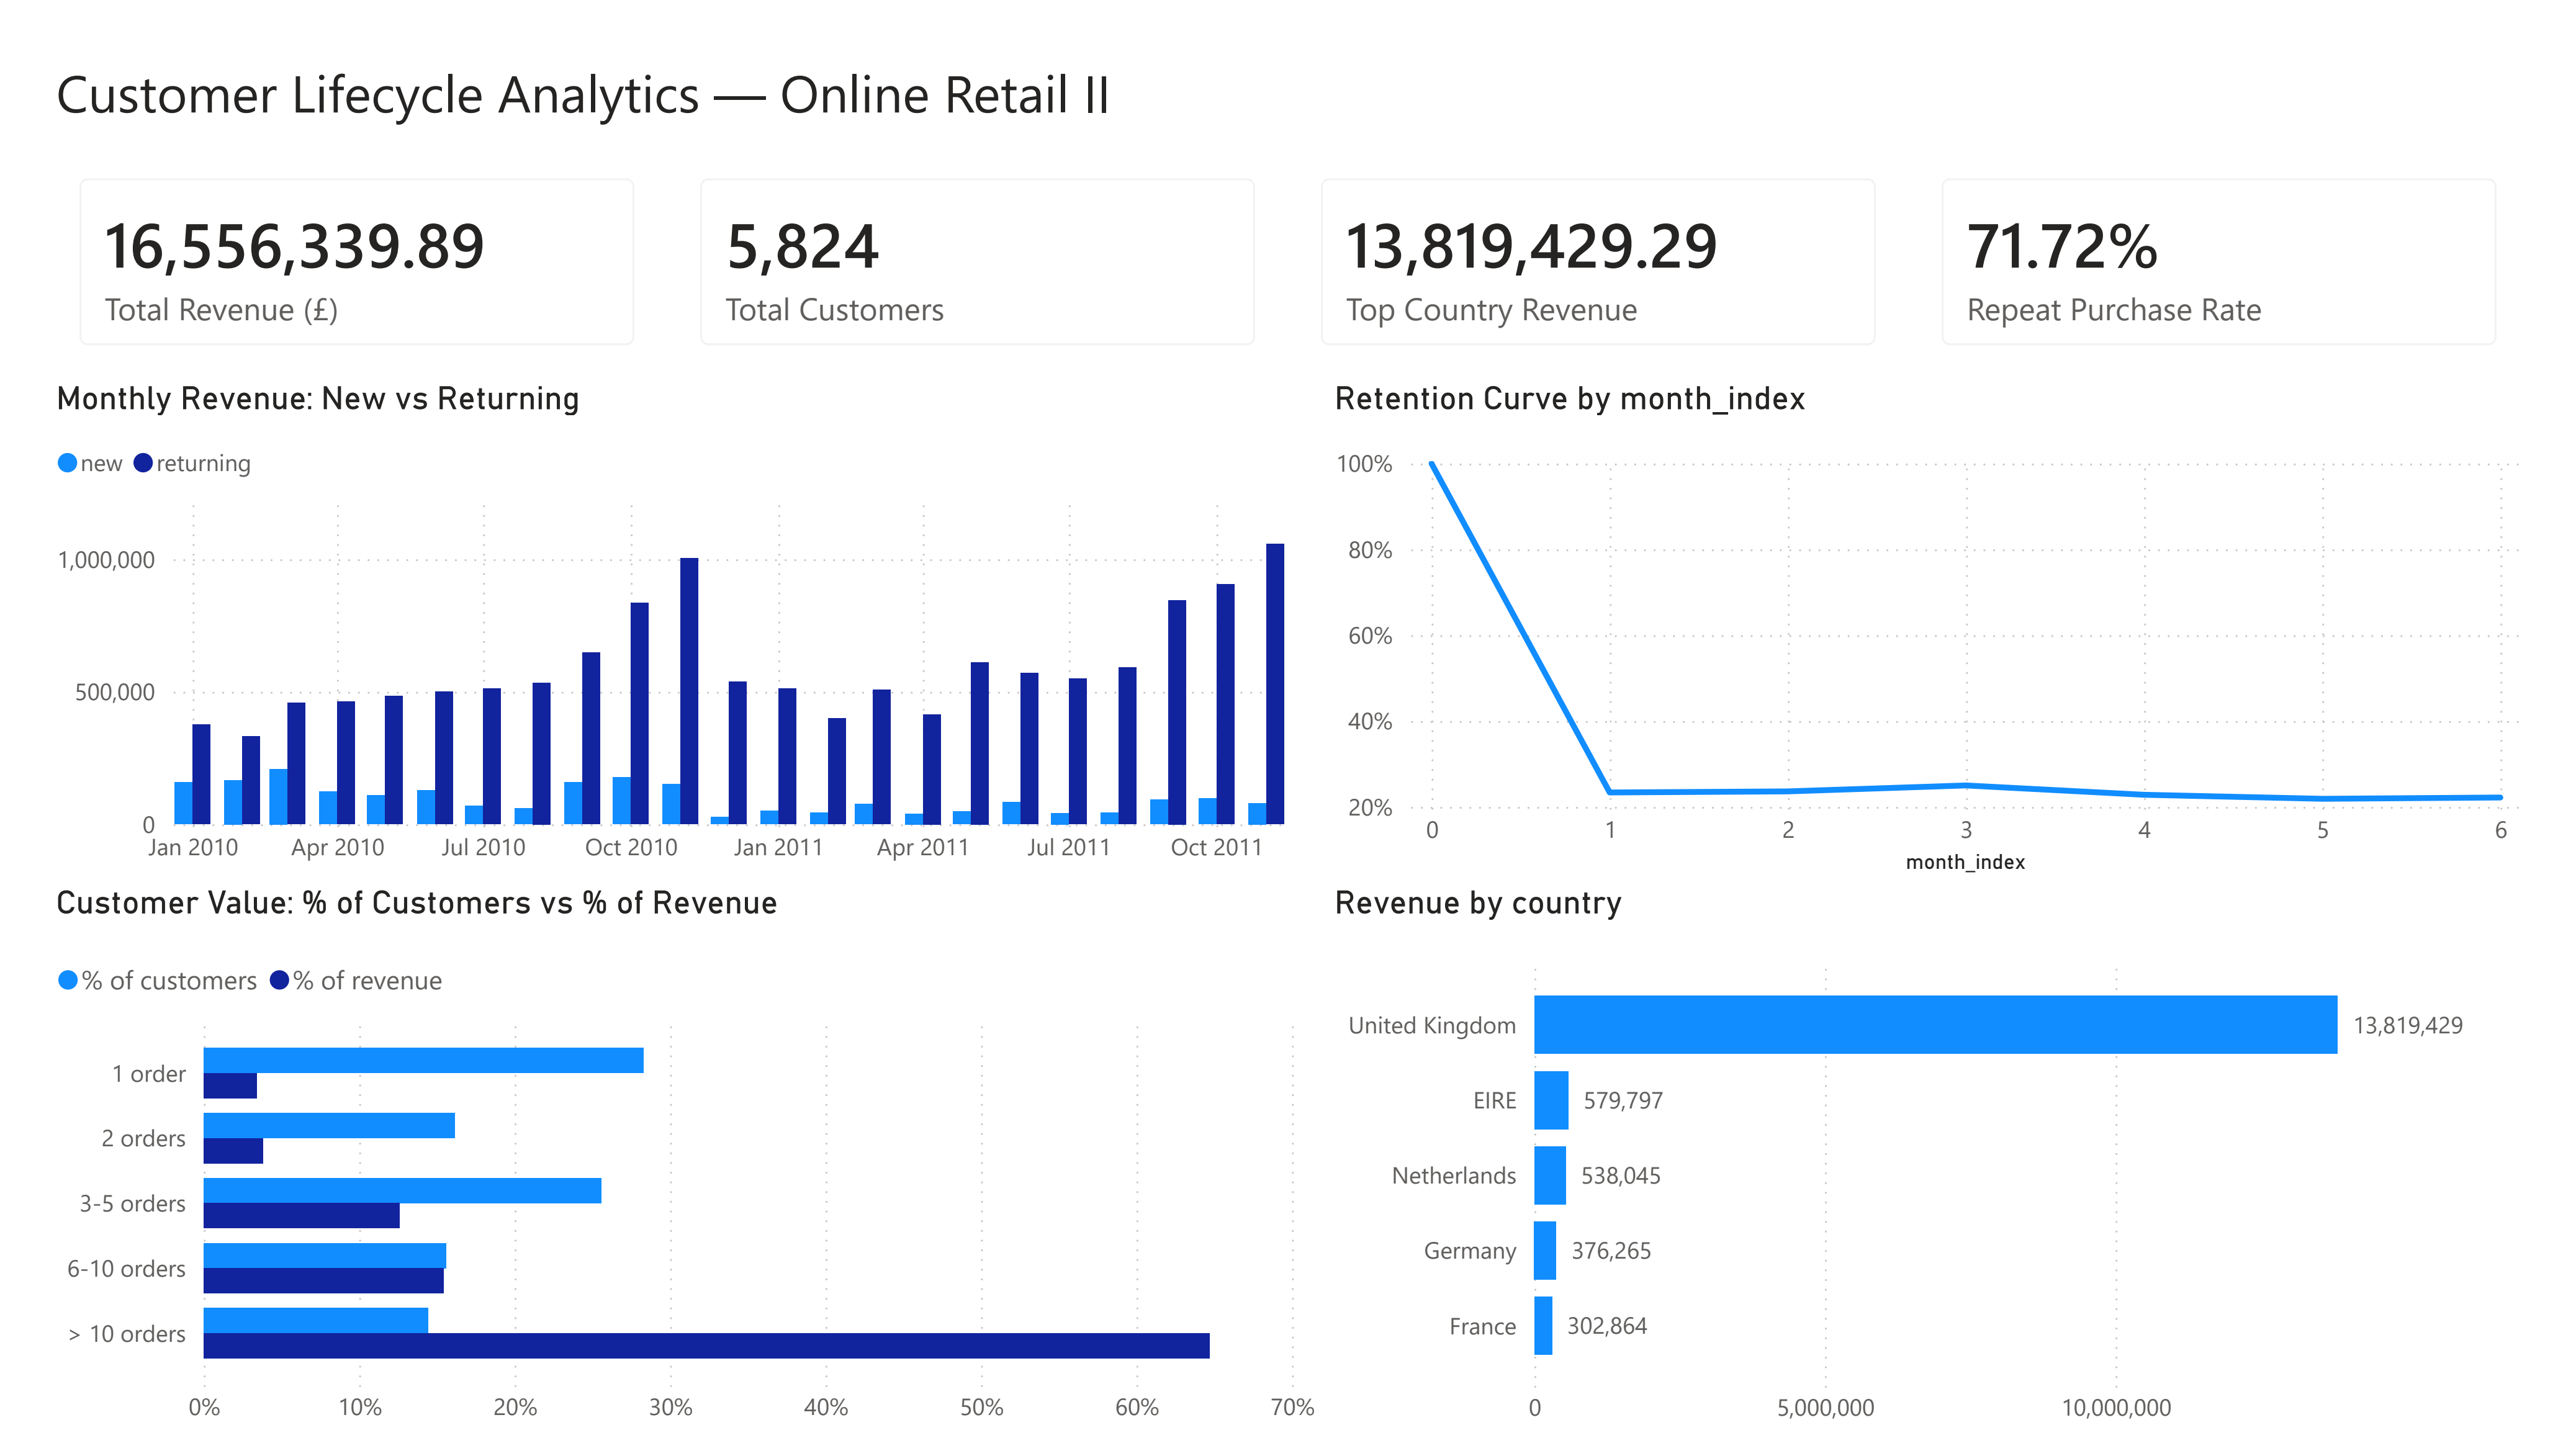

The page's visual inventory and layout, read from the dashboard file:
{"tool":"powerbi","page":{"name":"Trang 1","canvas":[1280,720],"ordinal":0},"visuals":[{"type":"cardVisual","fields":{"Data":["1Measures.Total Revenue"]},"box":[0,51.4,320,120],"z":0},{"type":"cardVisual","fields":{"Data":["1Measures.Total Customers"]},"box":[320,51.4,320,120],"z":1},{"type":"cardVisual","fields":{"Data":["Sum(country_revenue.revenue)"]},"box":[640,51.4,320,120],"z":2},{"type":"cardVisual","fields":{"Data":["1Measures.Repeat Purchase Rate"]},"box":[960,51.4,320,120],"z":3},{"type":"clusteredColumnChart","title":"Monthly Revenue: New vs Returning","fields":{"Y":["Sum(new_vs_returning.revenue)"],"Series":["new_vs_returning.customer_type"],"Category":["new_vs_returning.month"]},"box":[0,171.4,658.6,260],"z":4},{"type":"clusteredBarChart","title":"Customer Value: % of Customers vs % of Revenue","fields":{"Category":["orders_distribution.nhom"],"Y":["Sum(orders_distribution.customers)","Sum(orders_distribution.revenue)"]},"box":[0,431.4,658.6,288.6],"z":6},{"type":"textbox","box":[0,0,1280,51.4],"z":8},{"type":"lineChart","title":"Retention Curve by month_index","fields":{"Category":["cohort.month_index"],"Y":["1Measures.Retention Curve"]},"box":[658.6,171.4,621.4,260],"z":9},{"type":"clusteredBarChart","title":"Revenue by country","fields":{"Category":["country_revenue.country"],"Y":["Sum(country_revenue.revenue)"]},"box":[659,431,621,289],"z":10}]}

Visuals, with their boxes in screenshot pixels (x1, y1, x2, y2), scaled from the page's 1280x720 canvas onto the 2576x1456 screenshot:
cardVisual - 1Measures.Total Revenue: box(0, 104, 644, 346)
cardVisual - 1Measures.Total Customers: box(644, 104, 1288, 346)
cardVisual - Sum(country_revenue.revenue): box(1288, 104, 1932, 346)
cardVisual - 1Measures.Repeat Purchase Rate: box(1932, 104, 2575, 346)
"Monthly Revenue: New vs Returning" clusteredColumnChart: box(0, 346, 1325, 873)
"Customer Value: % of Customers vs % of Revenue" clusteredBarChart: box(0, 873, 1325, 1455)
textbox: box(0, 0, 2575, 104)
"Retention Curve by month_index" lineChart: box(1325, 346, 2575, 873)
"Revenue by country" clusteredBarChart: box(1326, 871, 2575, 1455)
